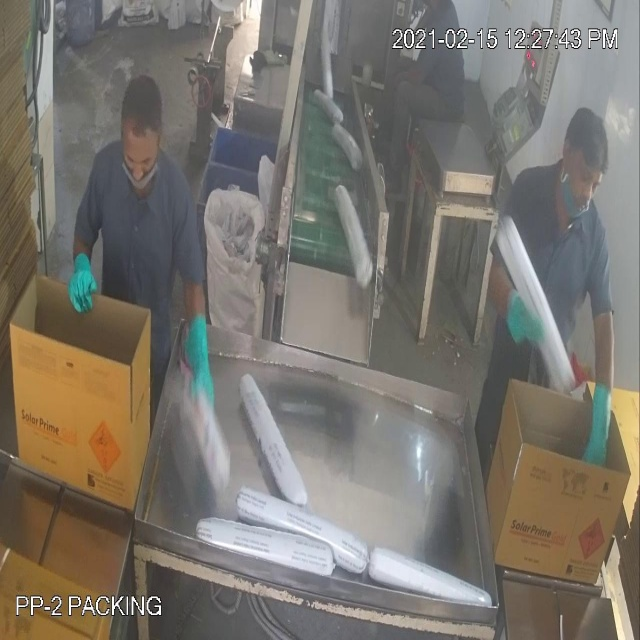Guantes: (572, 300, 621, 473), (178, 272, 223, 427), (490, 269, 550, 368), (59, 230, 102, 334)
